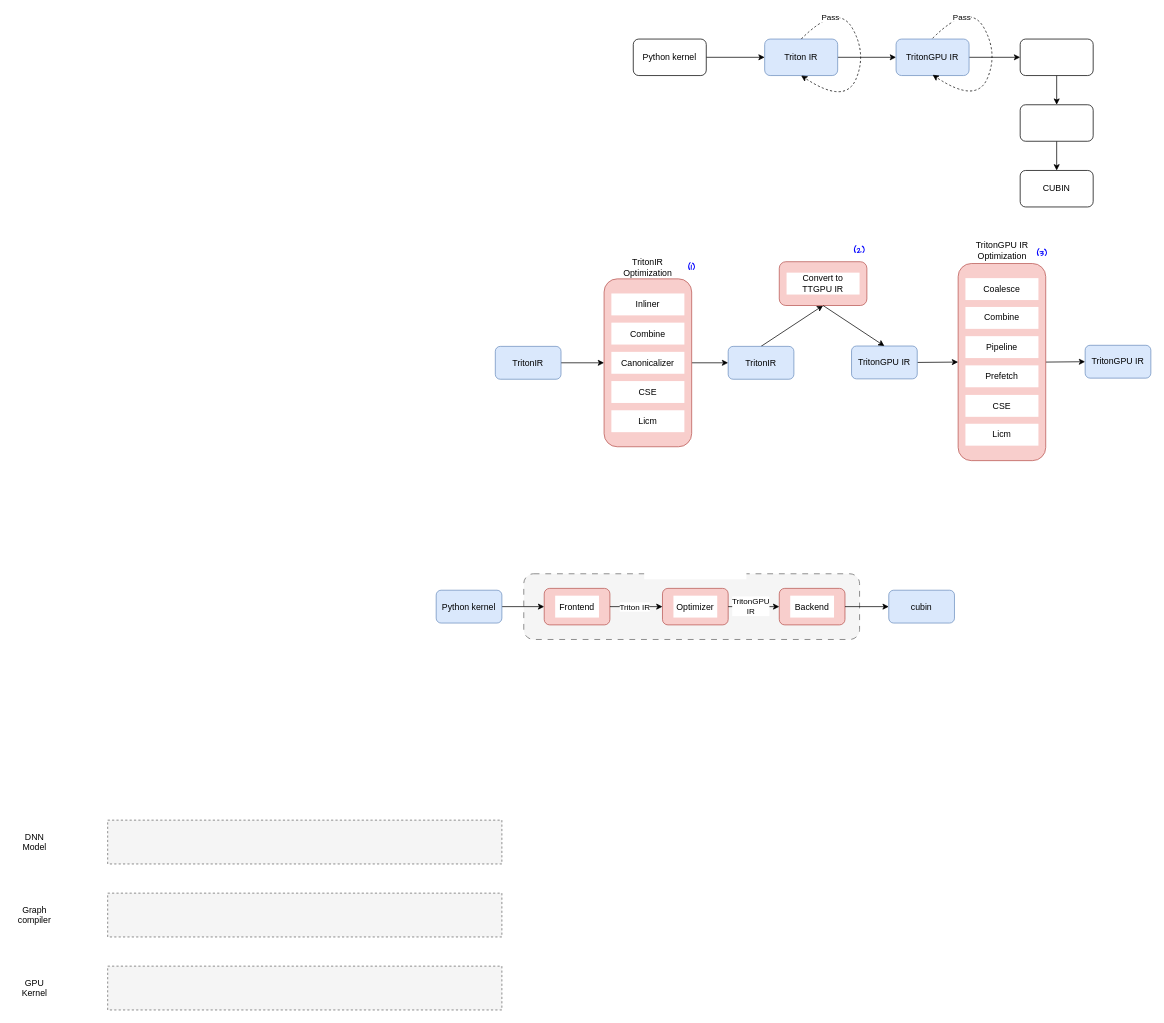
The diagram is 1164 pixels wide and 1023 high, and some of its shapes have lost their labels. Here are the shapes that lost their labels. From the top down, the centre of each, then its label:
At point (1056, 57): "LLVM IR".
At point (1056, 122): "PTX".
At point (695, 568): "Triton Compiler".
